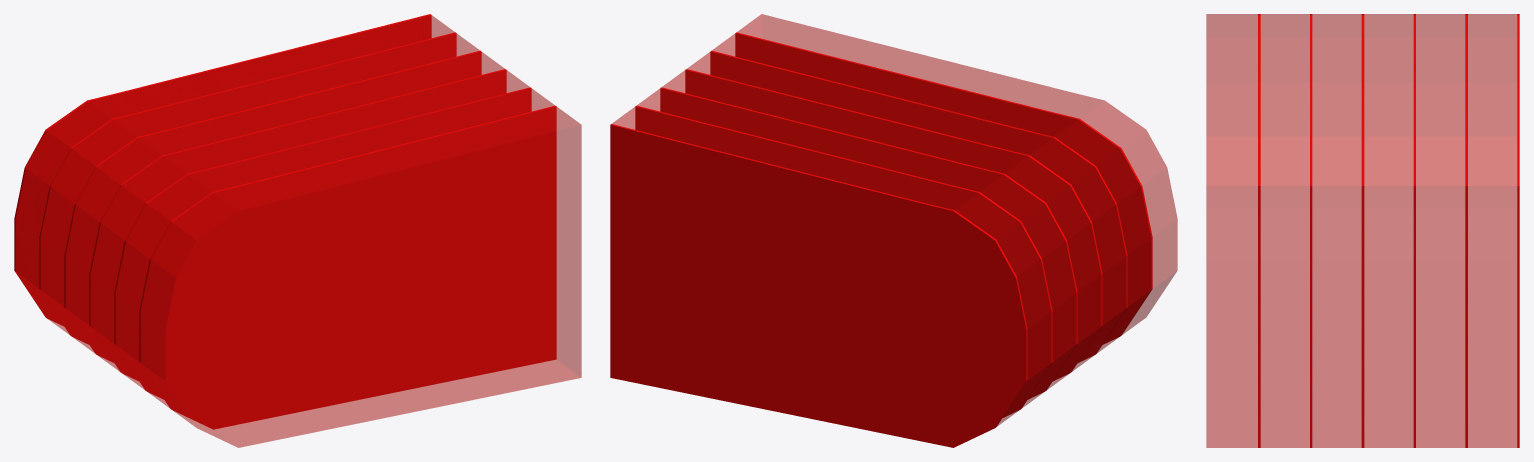
The model's file is hamcamap.obj.
The picture shows the model from 3 angles, left to right: view 1: azimuth 30°, elevation 25°; view 2: azimuth 150°, elevation 25°; view 3: azimuth 270°, elevation 25°; orthographic projection. The views are drawn at different scales.
Bounding box in the file's own units: 40 × 23.25 × 25.2.
